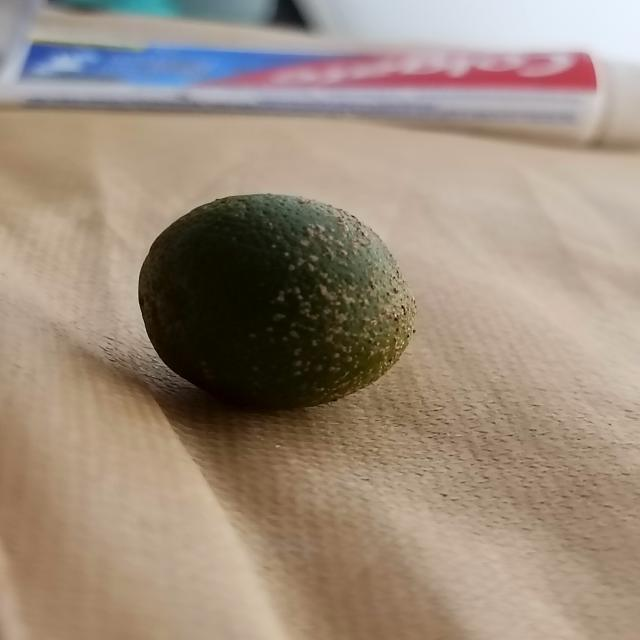scab: (132, 189, 422, 424)
